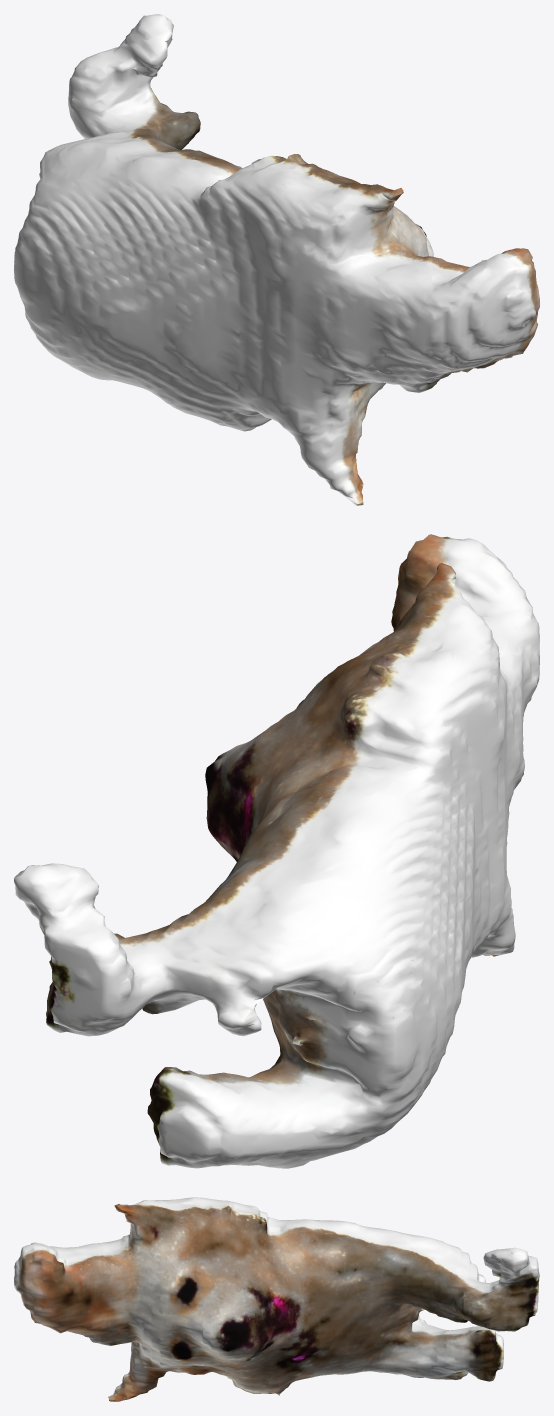
File: dog_after.glb
The picture shows the model from 3 angles, top to bottom: view 1: azimuth 30°, elevation 25°; view 2: azimuth 150°, elevation 25°; view 3: azimuth 270°, elevation 25°; orthographic projection. The views are drawn at different scales.
Parts seen in each view (by area): view 1: pose0; view 2: pose0; view 3: pose0.
Boxes of the visible parts, x1,y1,x2,y2 form: pose0: (14,14,539,505); pose0: (14,534,539,1168); pose0: (14,1197,539,1401).
Bounding box in the file's own units: 0.5352 × 0.5496 × 1.24.
Materials: 1 (1 with a texture image).
